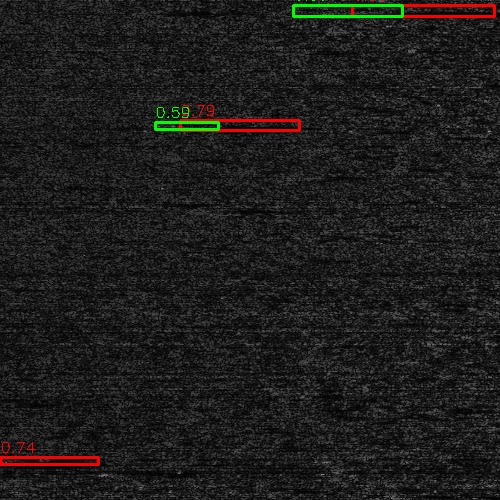rock: (117, 120, 200, 129), (307, 8, 380, 17), (442, 128, 500, 135), (436, 245, 489, 250)
shadow: (344, 8, 459, 17), (159, 120, 274, 129), (0, 458, 95, 463), (463, 245, 500, 250), (474, 128, 500, 135)
